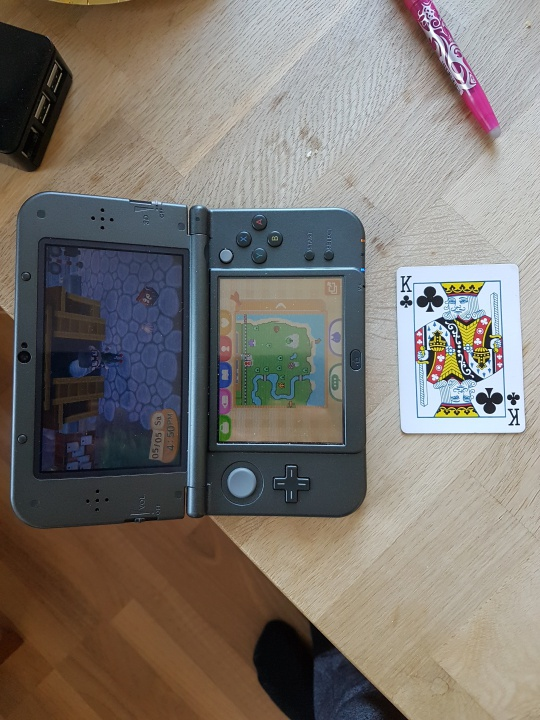king: (389, 261, 531, 444)
